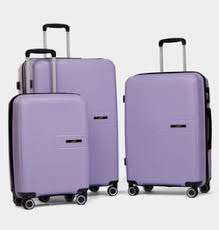suitcase: (15, 20, 121, 196), (123, 36, 212, 198), (9, 48, 91, 208)
